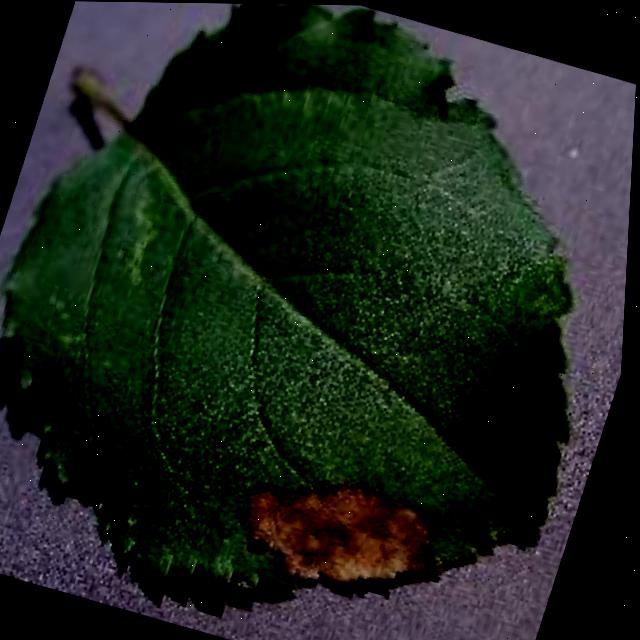black_rot: (219, 452, 471, 638)
